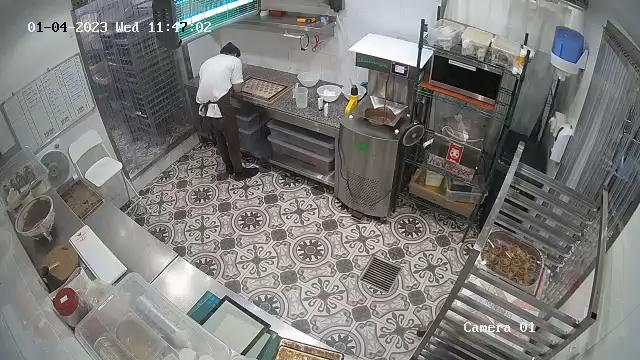apron: (198, 86, 231, 122)
